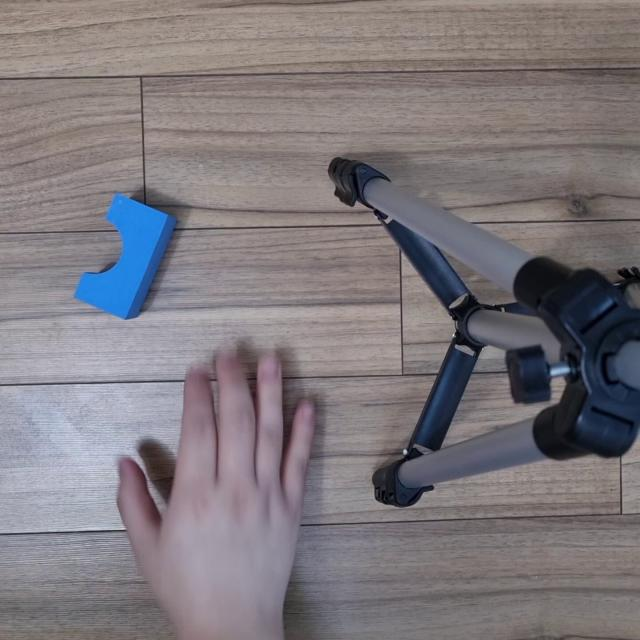block: (55, 184, 189, 330)
hand: (104, 336, 332, 640)
